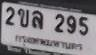letters: (17, 9, 29, 27), (32, 11, 43, 29), (54, 14, 64, 32), (67, 15, 76, 33), (79, 17, 88, 35), (6, 7, 14, 25)
province: (16, 35, 83, 50)
